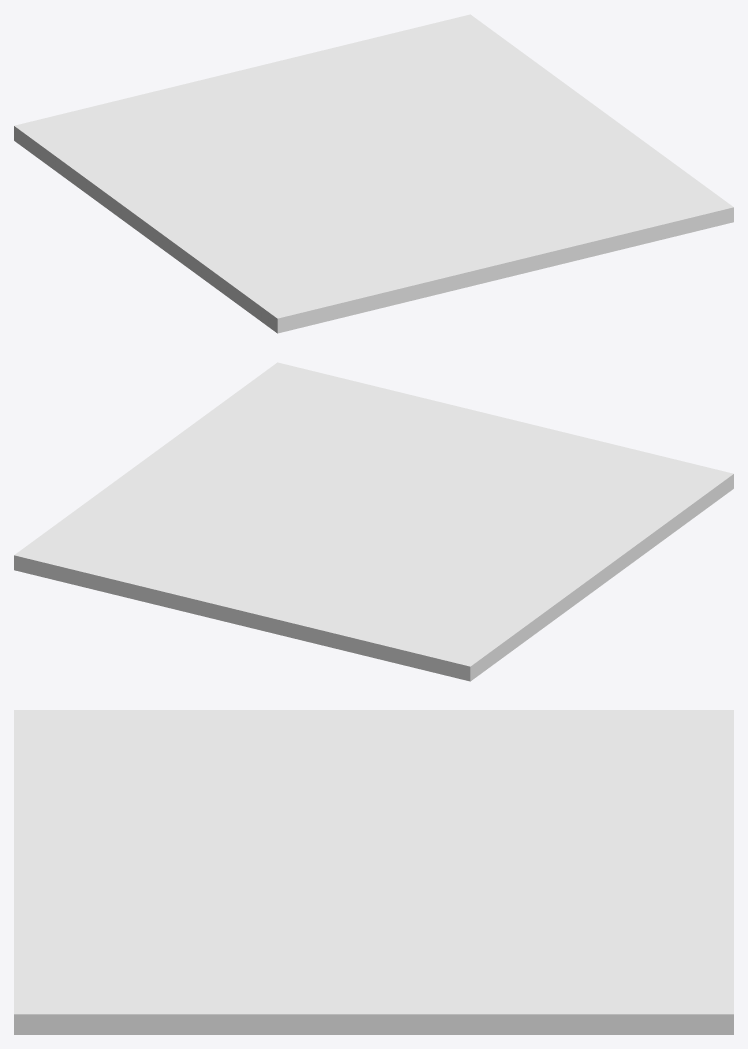
Rendered from road_clean.gltf.
3 renders of one model, top to bottom at view 1: azimuth 30°, elevation 25°; view 2: azimuth 150°, elevation 25°; view 3: azimuth 270°, elevation 25°, orthographic. The views are drawn at different scales.
Parts seen in each view (by area): view 1: Layer.2; view 2: Layer.2; view 3: Layer.2.
Part boxes in pixels (bbox=[...]): Layer.2: bbox=[14, 14, 733, 333]; Layer.2: bbox=[14, 362, 733, 681]; Layer.2: bbox=[14, 710, 733, 1034].
Bounding box in the file's own units: 32 × 1 × 32.
1 material, 1 textured.
